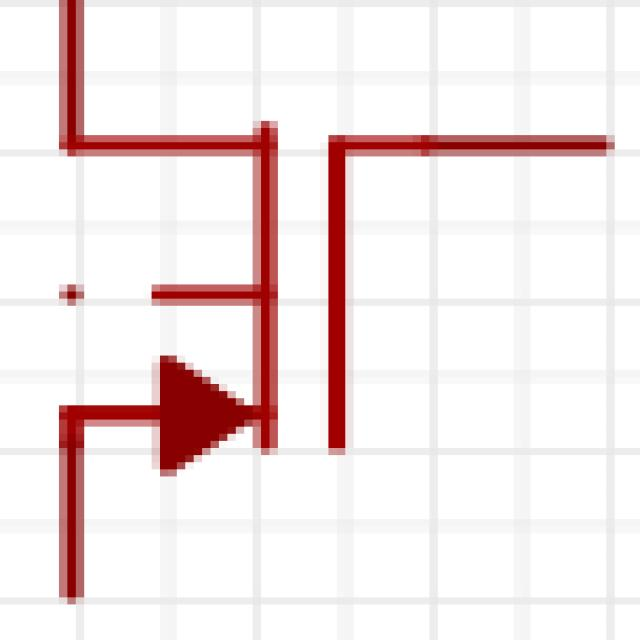pmos: (39, 8, 637, 634)
